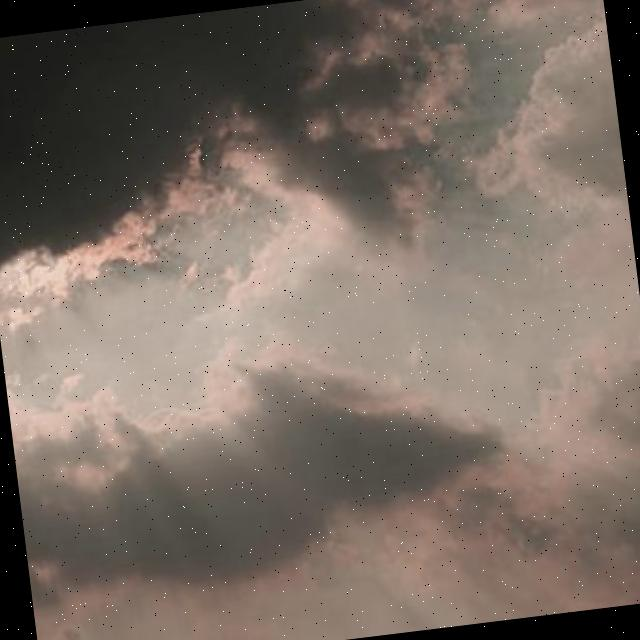As: (5, 305, 545, 640)
